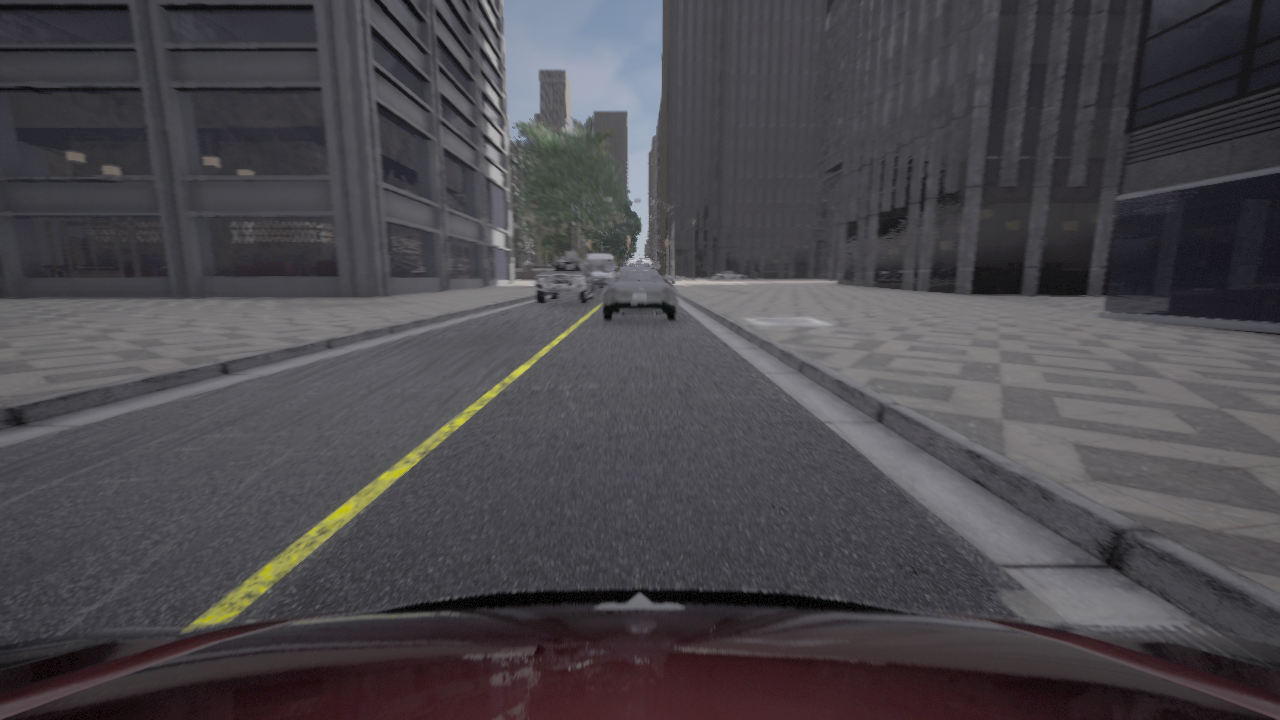cyclist: (0, 588, 1279, 719), (602, 267, 677, 320), (535, 257, 594, 303), (586, 253, 616, 288), (713, 271, 747, 279), (626, 258, 652, 266)
